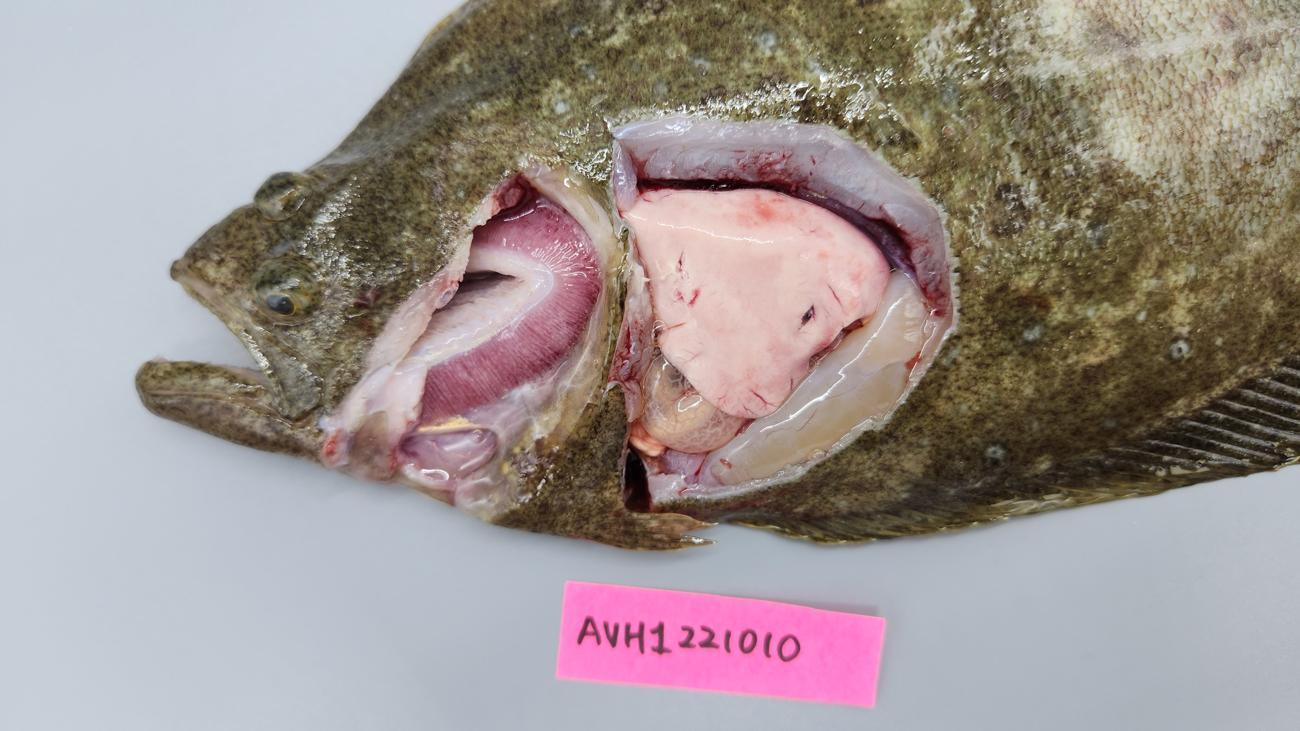VIGIP: (420, 206, 599, 421)
